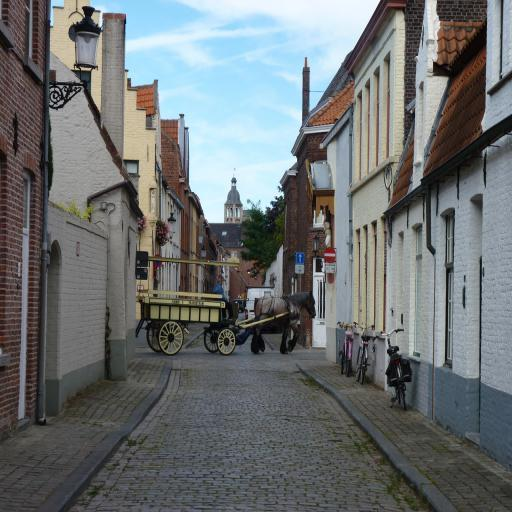horse: (252, 290, 316, 352)
